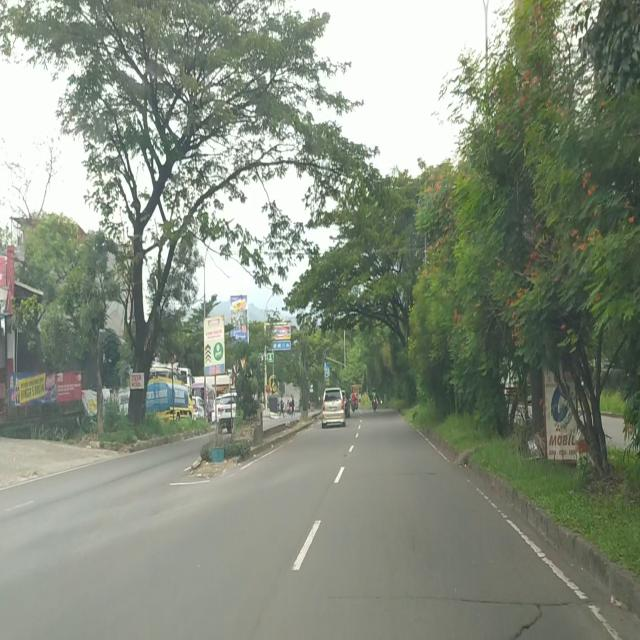Sewer Cover: (398, 592, 581, 606), (507, 602, 550, 640)
